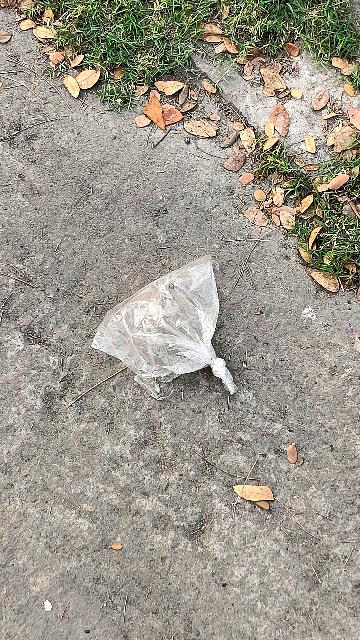polythene: (90, 253, 261, 399)
